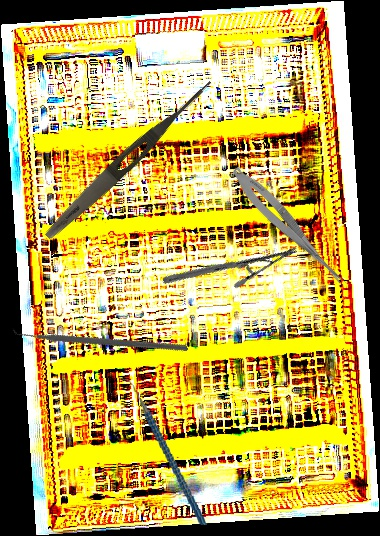Chopper: (8, 254, 189, 417), (116, 367, 208, 535)
Dressing Forceps: (40, 73, 217, 245)
Micro Scissor: (224, 161, 357, 294)
Needle Holder: (160, 198, 300, 333)
